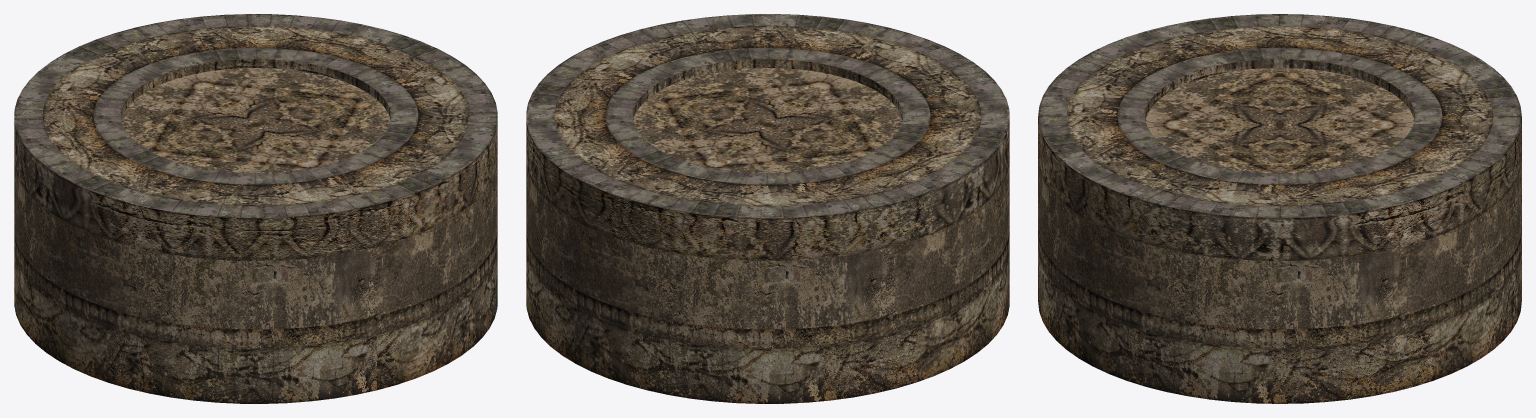
The model's file is materials_5_pillar_fat_16.fbx.
The picture shows the model from 3 angles, left to right: view 1: azimuth 30°, elevation 25°; view 2: azimuth 150°, elevation 25°; view 3: azimuth 270°, elevation 25°; orthographic projection.
Parts seen in each view (by area): view 1: materials_5_pillar_fat_16; view 2: materials_5_pillar_fat_16; view 3: materials_5_pillar_fat_16.
Part boxes in pixels (x1,y1,x2,y2): materials_5_pillar_fat_16: (14, 14, 497, 403); materials_5_pillar_fat_16: (526, 14, 1009, 403); materials_5_pillar_fat_16: (1038, 14, 1521, 403).
Size of the model in its own units: 135 by 56.99 by 135.
